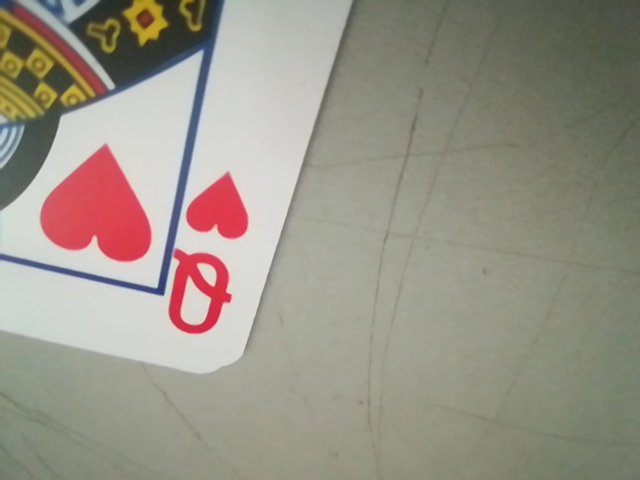hx q: (164, 165, 251, 332)
